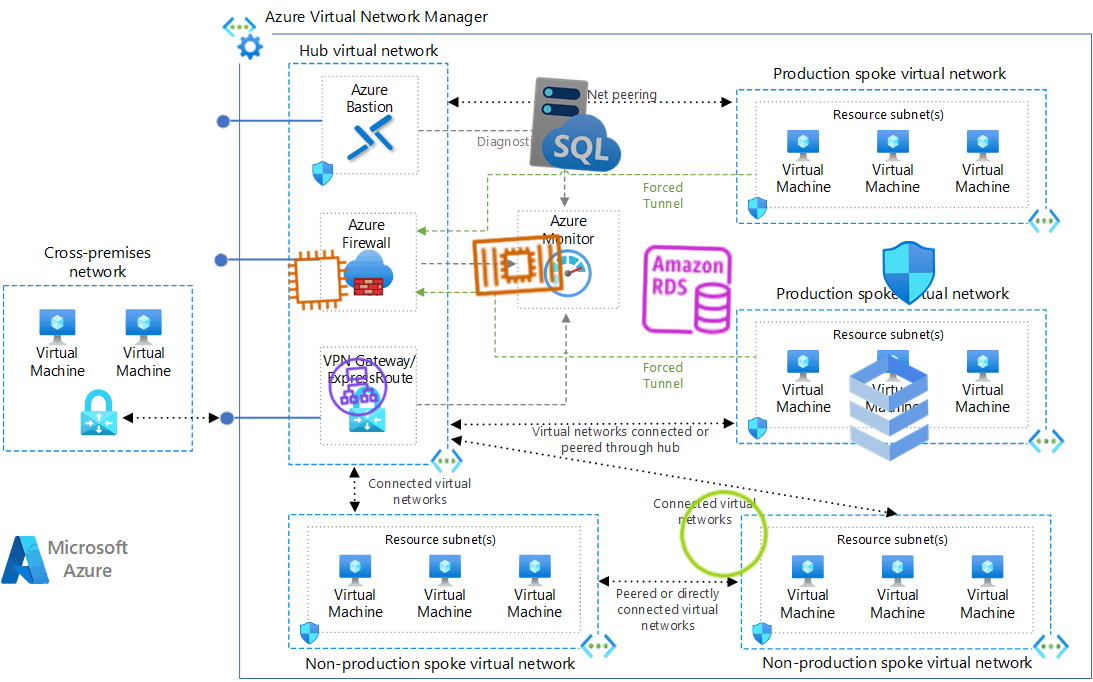aws_aurora_amazon_rds_instance: (637, 240, 737, 340)
aws_ec2_instance: (284, 246, 352, 314)
aws_elastic_container_service_container_2: (466, 213, 570, 317)
aws_elastic_load_balancing_application_load_balancer: (323, 352, 393, 422)
aws_simple_storage_service_object: (672, 482, 776, 586)
azure_network_security_groups: (876, 240, 942, 306)
azure_sql_managed_instance: (526, 73, 630, 177)
gcp_cloud_sql: (823, 342, 955, 474)
